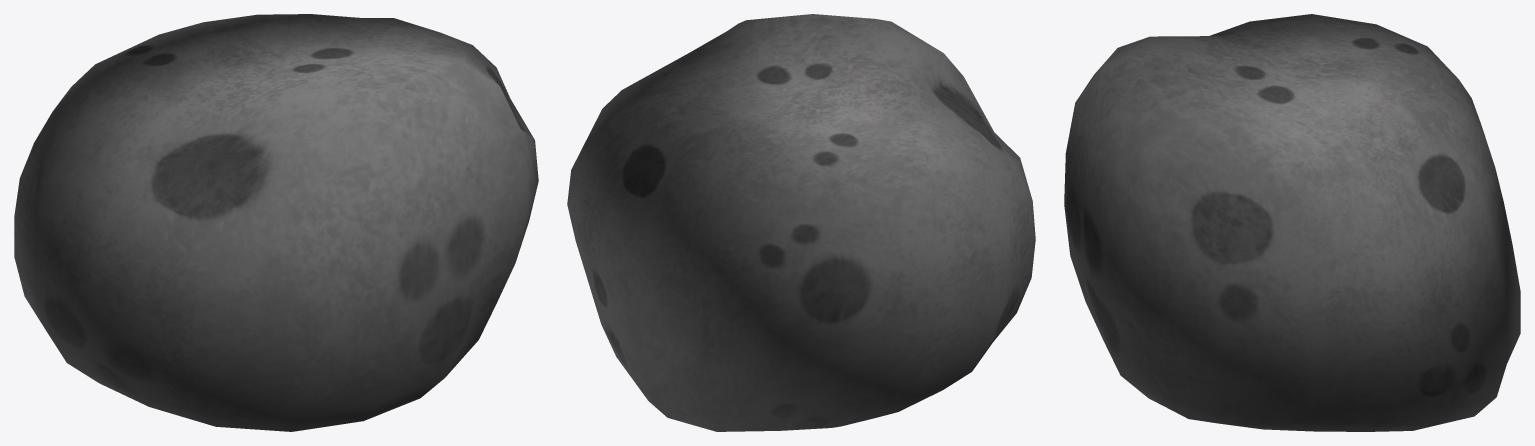
The model's file is AsteroidMedium.fbx.
3 views of the same model, side by side, from view 1: azimuth 30°, elevation 25°; view 2: azimuth 150°, elevation 25°; view 3: azimuth 270°, elevation 25° (orthographic). The views are drawn at different scales.
Visible parts, largest first — view 1: AsteroidMedium; view 2: AsteroidMedium; view 3: AsteroidMedium.
Boxes of the visible parts, x1=… form: AsteroidMedium: x1=14, y1=14, x2=538, y2=431; AsteroidMedium: x1=567, y1=14, x2=1035, y2=431; AsteroidMedium: x1=1064, y1=14, x2=1520, y2=431.
Size of the model in its own units: 70.68 by 50.1 by 60.16.
